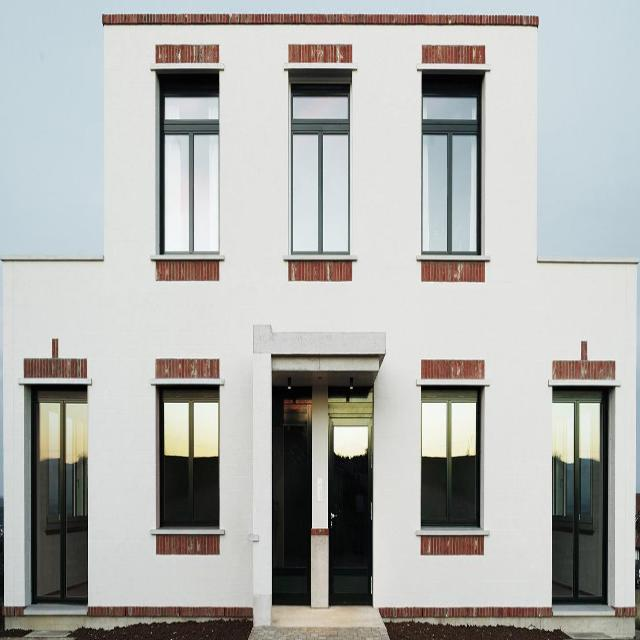door: (551, 399, 607, 608), (32, 397, 87, 605), (272, 395, 311, 604), (327, 406, 367, 606)
window: (160, 85, 218, 258), (421, 92, 478, 260), (292, 90, 348, 255), (159, 393, 218, 530), (421, 398, 478, 531)
